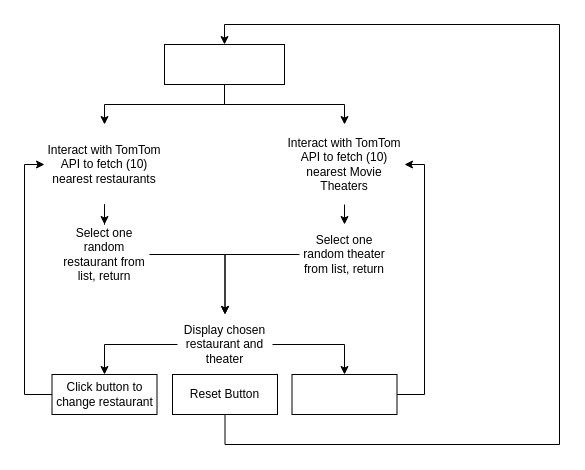
The diagram is 585 pixels wide and 470 high, and some of its shapes have lost their labels. Each missing label, with the box of its shape:
Click button to change theater: (291, 374, 397, 414)
Input Zip Code: (164, 44, 284, 84)
